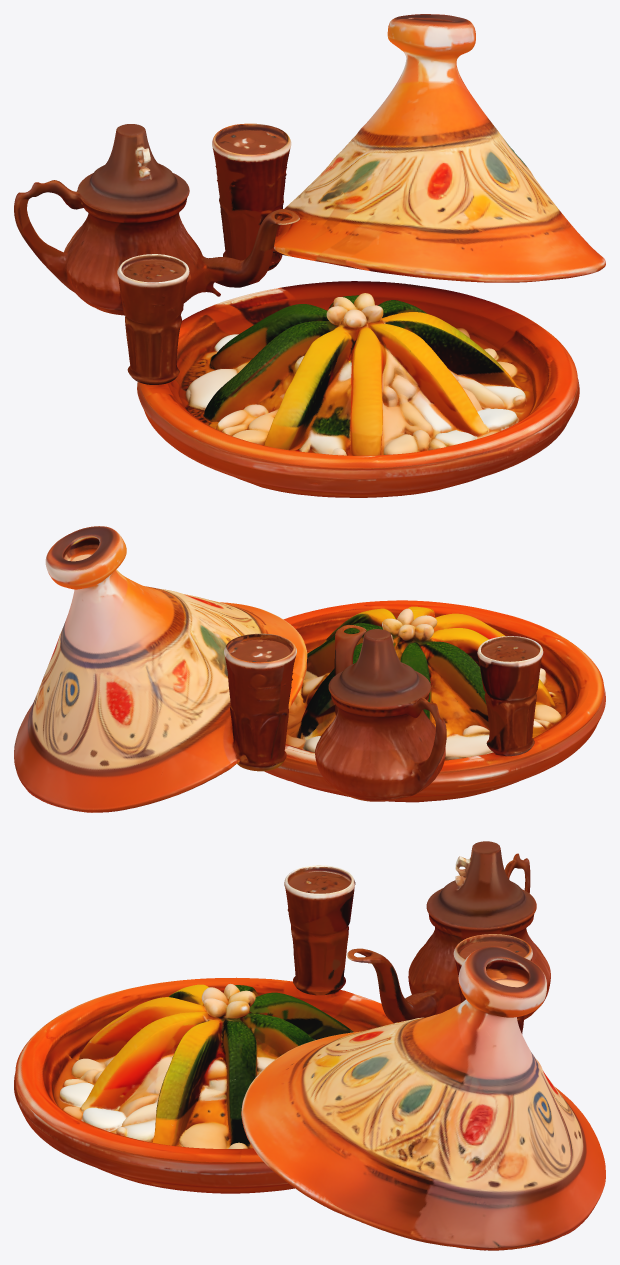
Rendered from Tajine et Atay_shaded.glb.
3 views of the same model, one above another, from view 1: azimuth 30°, elevation 25°; view 2: azimuth 150°, elevation 25°; view 3: azimuth 270°, elevation 25° (orthographic). The views are drawn at different scales.
Parts seen in each view (by area): view 1: model; view 2: model; view 3: model.
Boxes of the visible parts, x1,y1,x2,y2 form: model: (14,14,605,497); model: (14,526,605,812); model: (14,841,605,1250).
Size of the model in its own units: 1.86 by 0.9503 by 1.91.
1 material, 1 textured.
